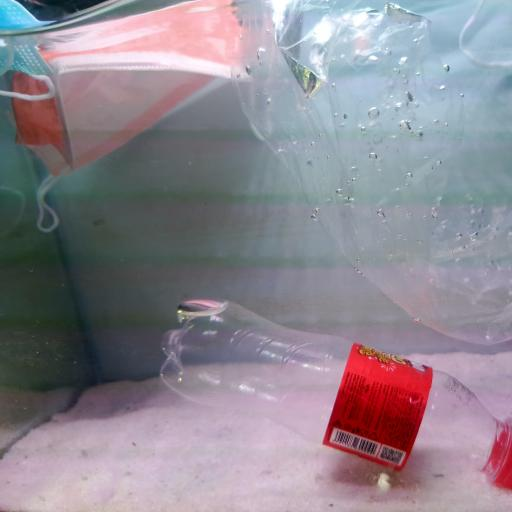bottle_cap: (486, 412, 512, 488)
mask: (15, 4, 260, 226), (0, 2, 63, 117)
plastic_bag: (235, 2, 512, 355)
plastic_bottle: (168, 296, 512, 509)
